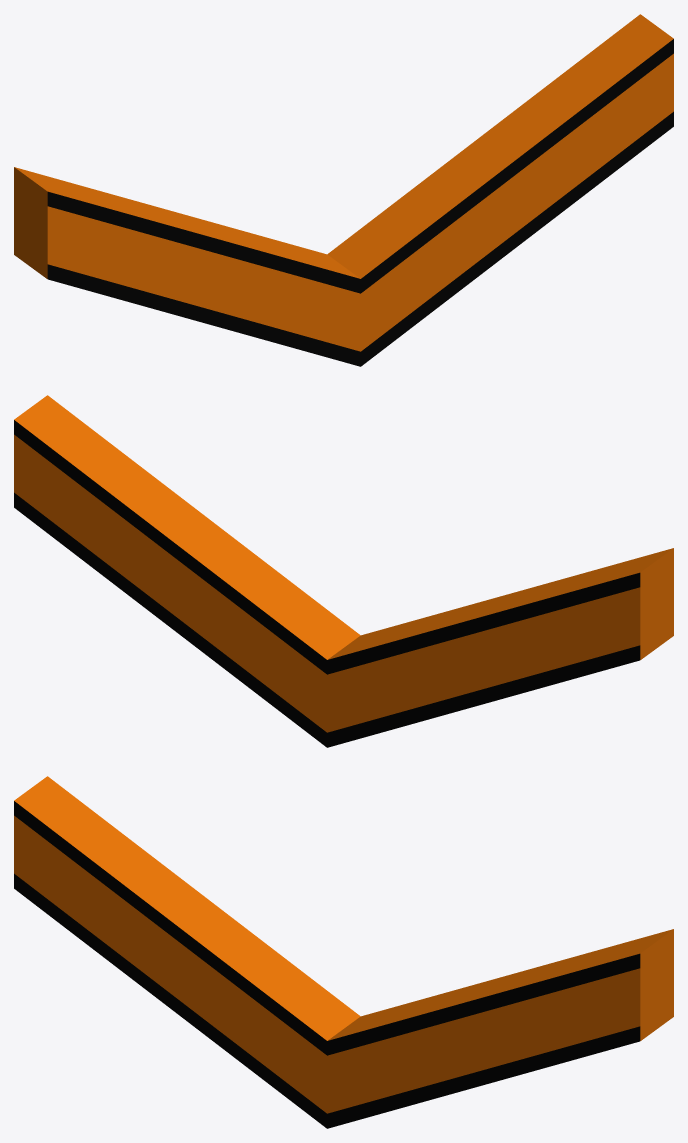
The model's file is signmaterial.fbx.
3 views of the same model, one above another, from view 1: azimuth 30°, elevation 25°; view 2: azimuth 150°, elevation 25°; view 3: azimuth 330°, elevation 25° (orthographic).
Parts seen in each view (by area): view 1: Cube; view 2: Cube; view 3: Cube.
Part boxes in pixels (bbox=[...]): Cube: bbox=[14, 14, 673, 366]; Cube: bbox=[14, 395, 673, 747]; Cube: bbox=[14, 776, 673, 1128].
Size of the model in its own units: 200 by 76.81 by 18.58.
